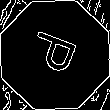P_E: (25, 29, 85, 81)
